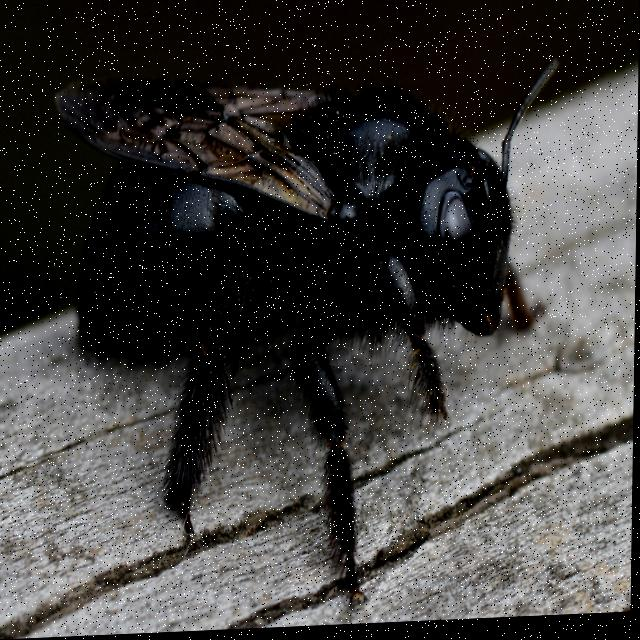Xylocopa: (51, 30, 571, 624)
